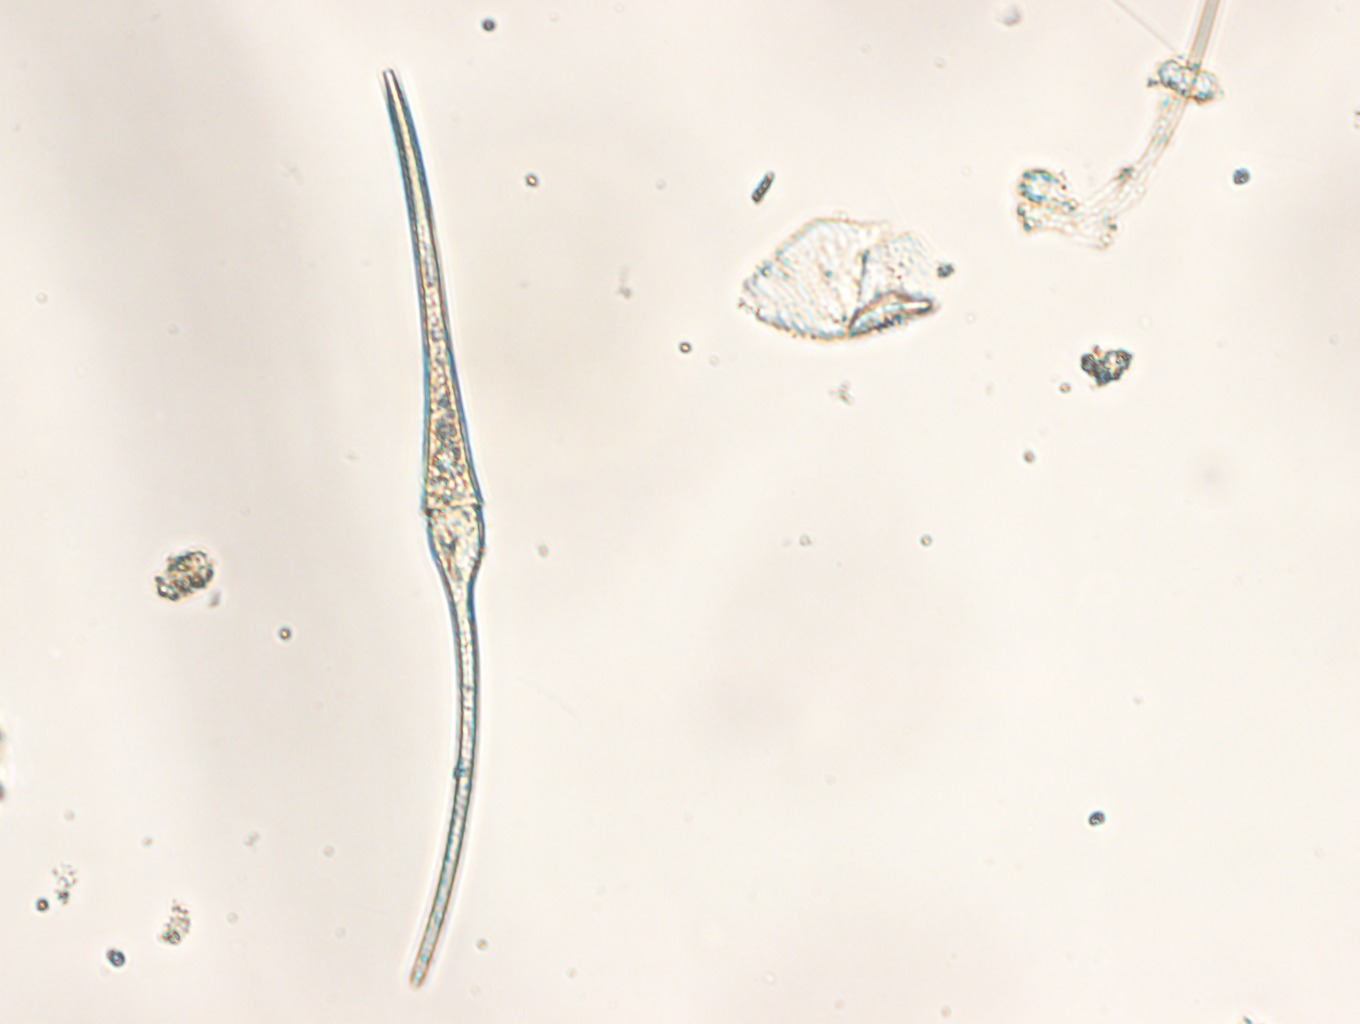ceratium fusus: (380, 69, 486, 989)
